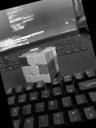rubik: (17, 42, 64, 88)
